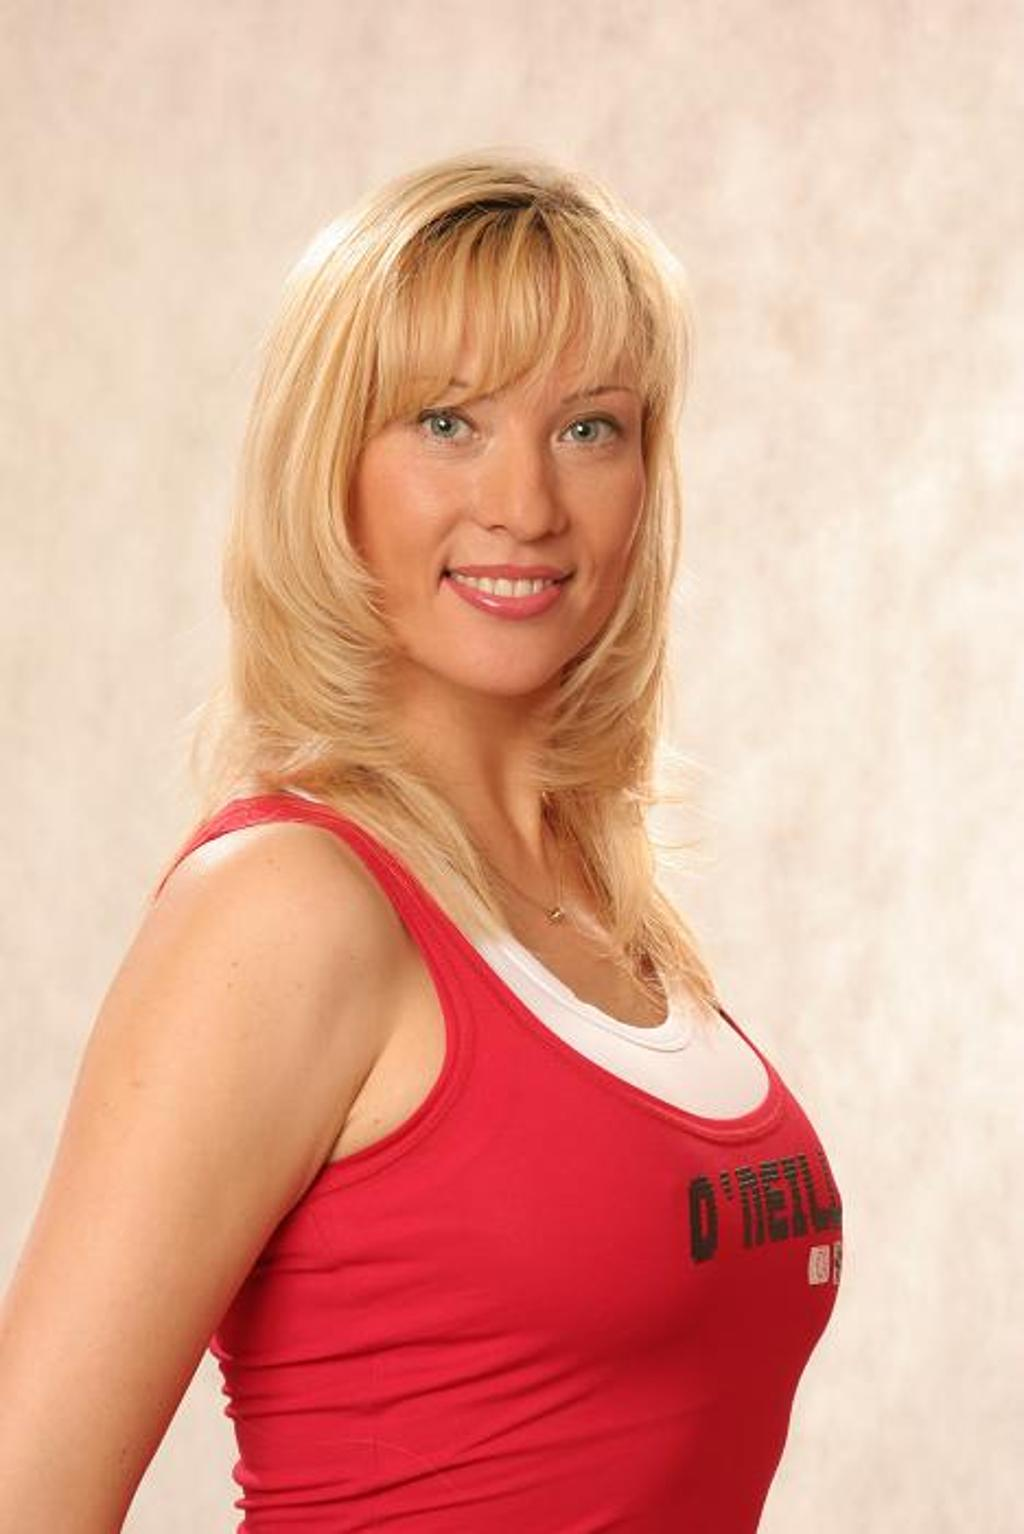face: (368, 255, 652, 698)
